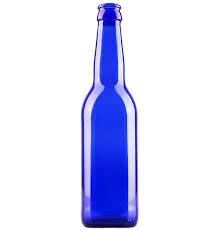Glass bottle: (69, 0, 145, 230)
